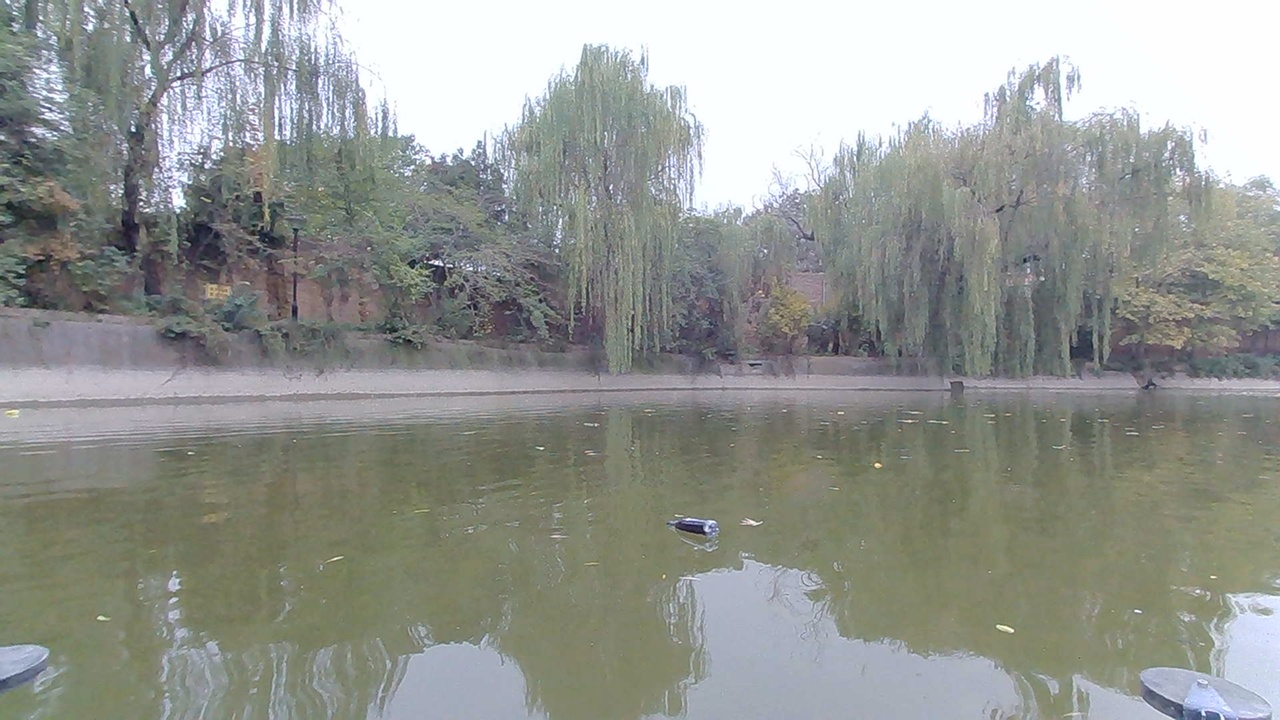bottle: (672, 513, 726, 547)
